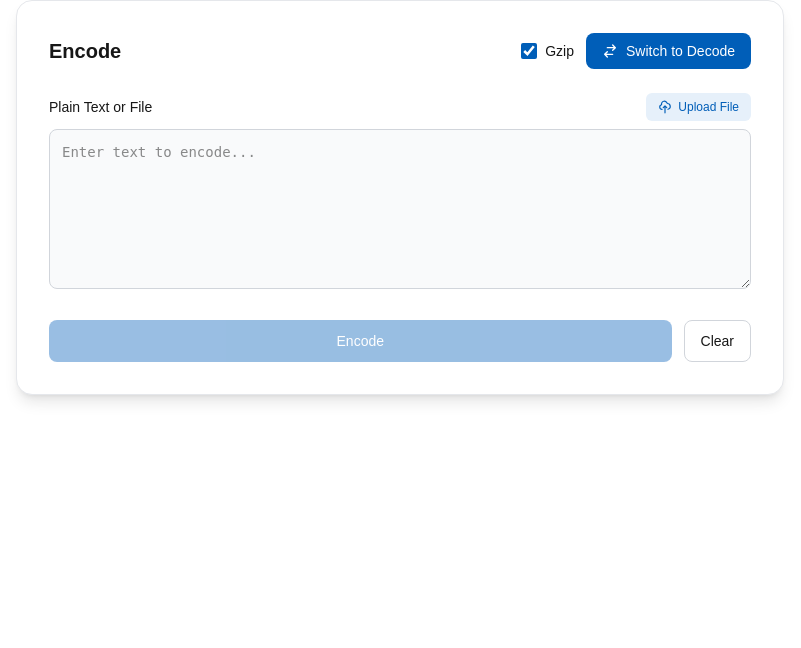
Test: EncoderDecoder › copies output to clipboard
Type "Hello" into the text box with placeholder "Enter text to encode..." at (400,209), box [49,129,751,289]
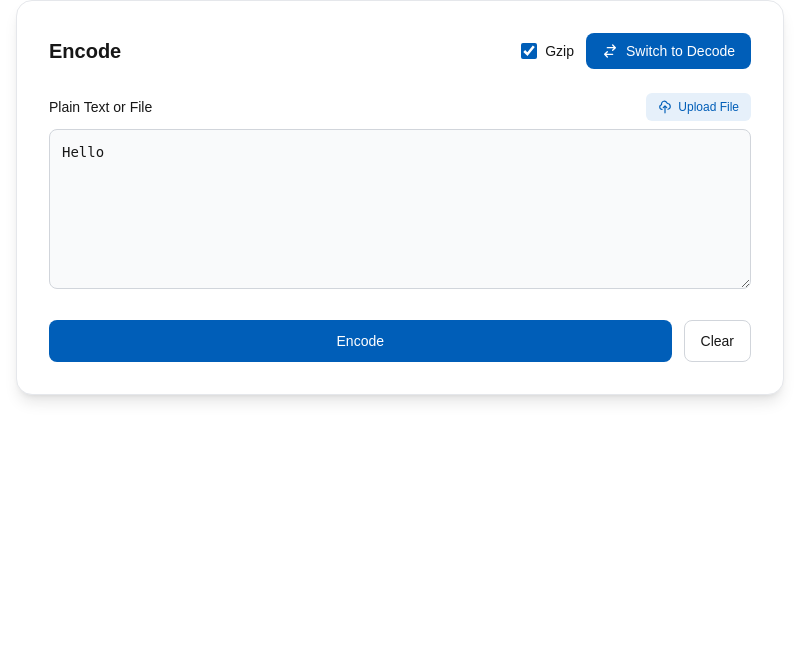
Click the button "Encode" at (360,341), box [49,320,672,362]
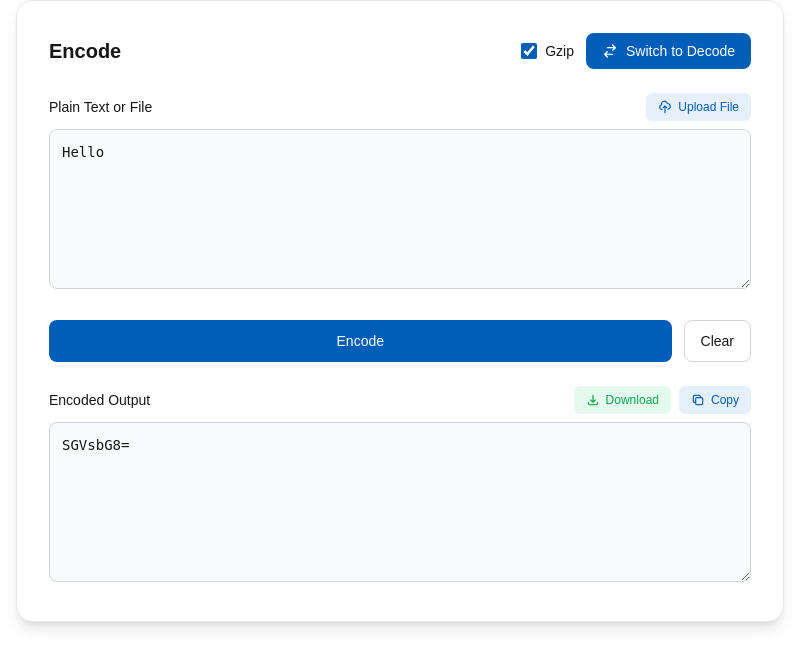
Expected: the text box showing "SGVsbG8=" below "Encoded Output" is shown, [49,422,751,582]
Click the button "Copy" at (715,400), box [679,386,751,414]
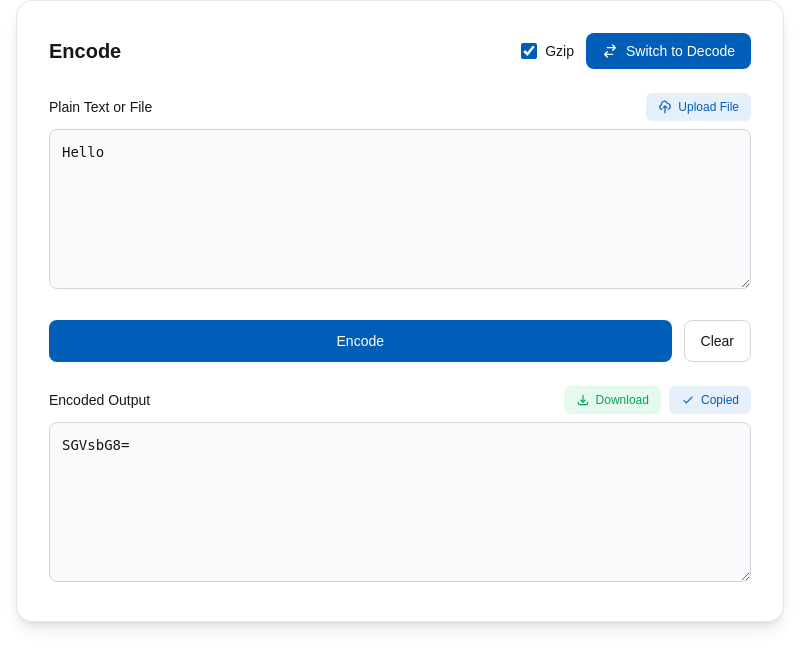
Expected: the button "Copied" is shown, [669,386,751,414]
